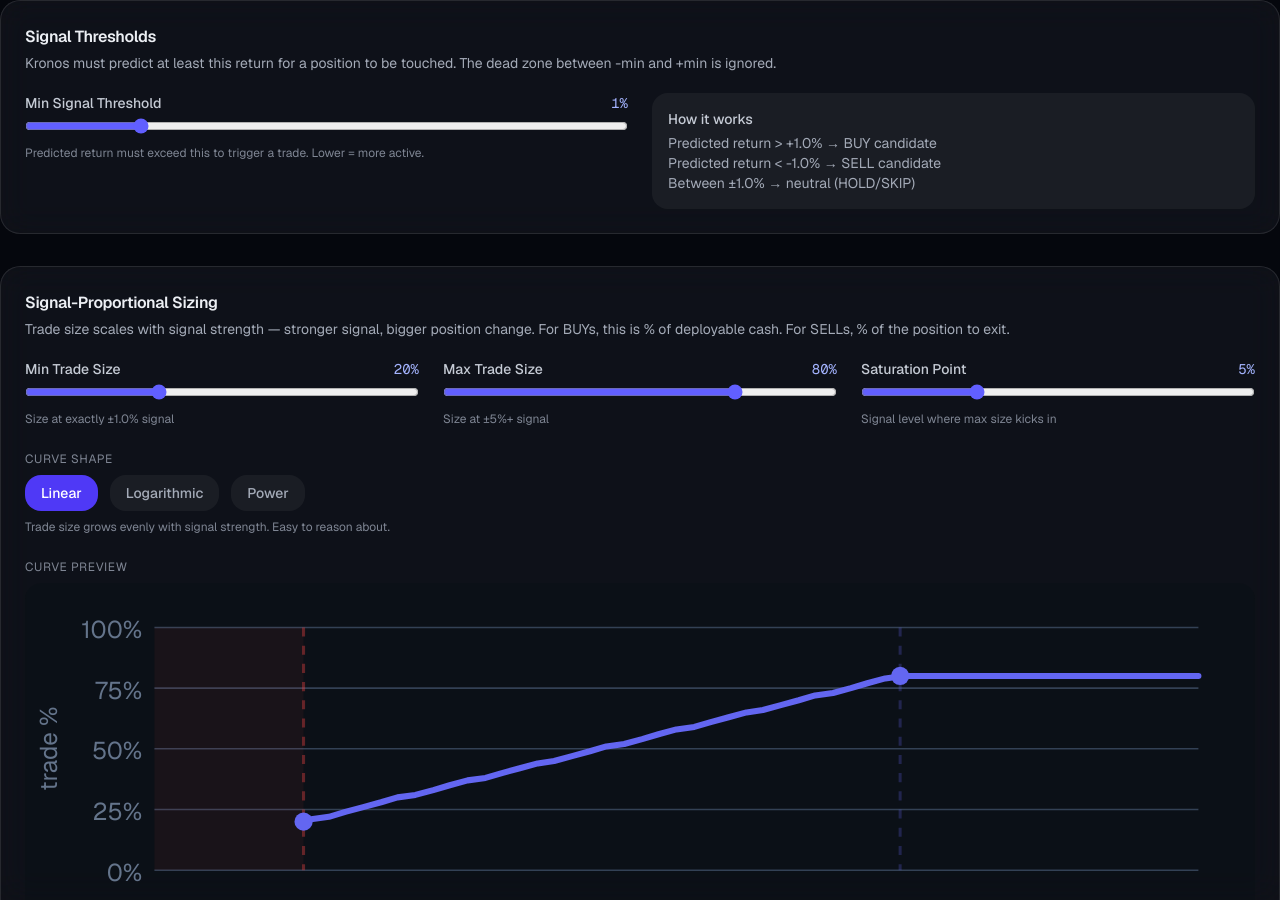
it: KronosTunePanel › reset button restores initial values and clears dirty
The width and height of the screenshot is (1280, 900).
// Dirty by clicking Logarithmic
Click the button "Logarithmic" at (165, 493), box left=110, top=475, right=219, bottom=511
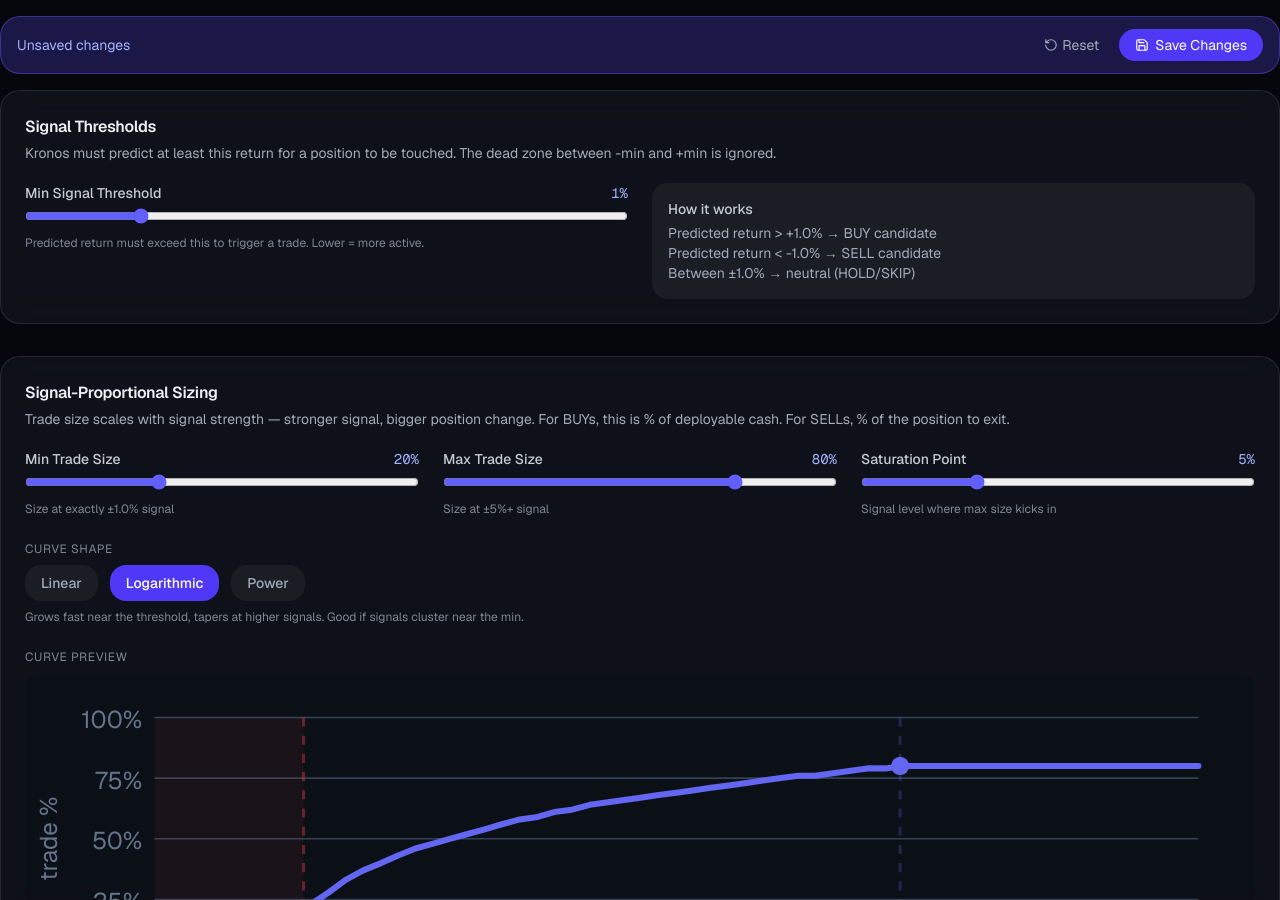
Now the text "Unsaved changes" is shown, box left=17, top=35, right=130, bottom=55
Click the button "Reset" at (1072, 45), box left=1032, top=29, right=1111, bottom=61
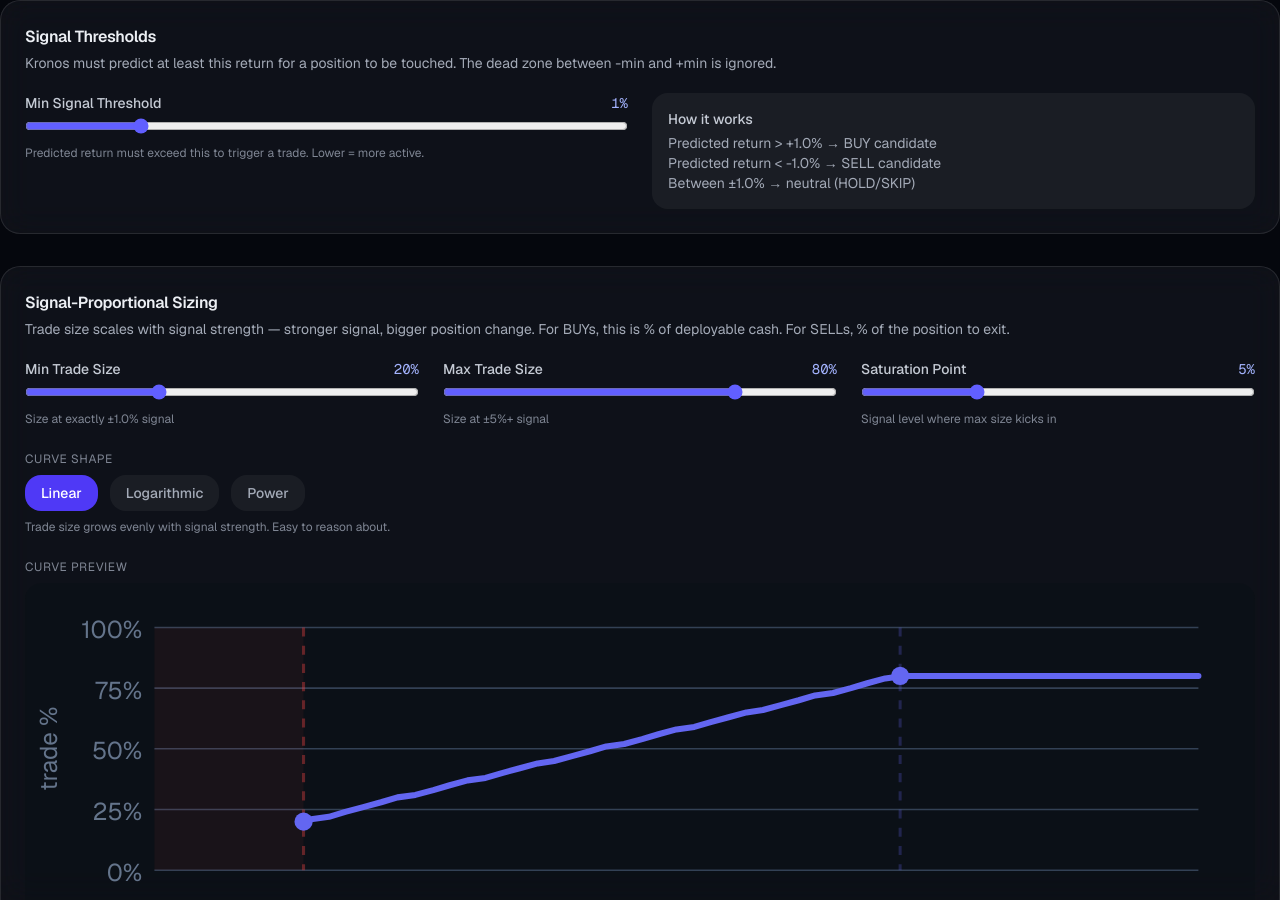
Now the text "Unsaved changes" is gone
